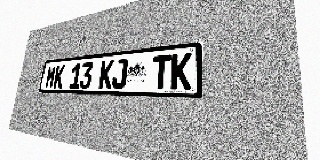1: (69, 63, 83, 88)
3: (79, 62, 94, 89)
J: (111, 59, 128, 89)
K: (170, 53, 192, 89), (98, 60, 114, 89), (53, 64, 65, 88)
M: (45, 65, 57, 88)
T: (151, 55, 171, 89)
